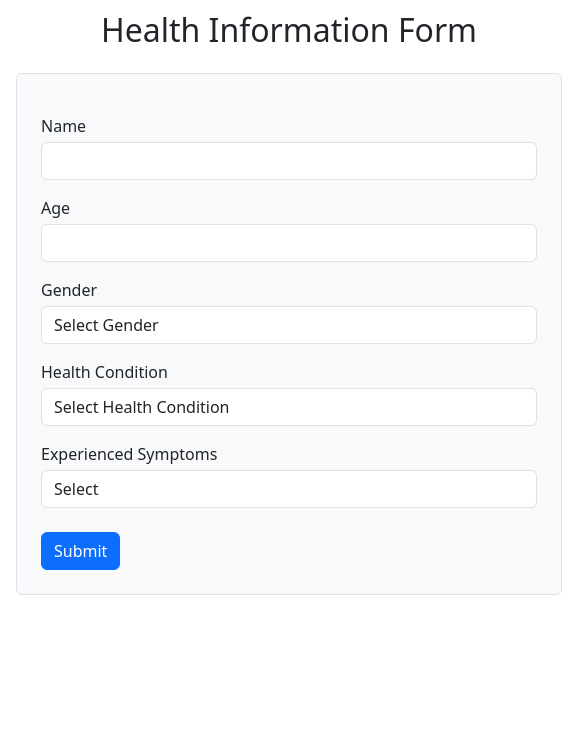
Test case: MyForm Component › validates form inputs
Click the button "Submit": (81, 551) [41, 532, 120, 570]
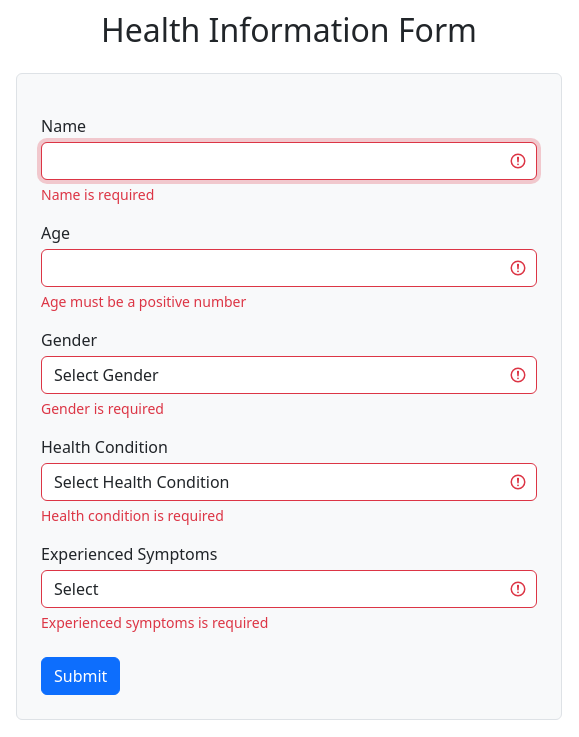
Result: the text "Name is required" is shown at [41, 185, 154, 204]
Result: the text "Age must be a positive number" is shown at [41, 292, 246, 311]
Result: the text "Gender is required" is shown at [41, 399, 164, 418]
